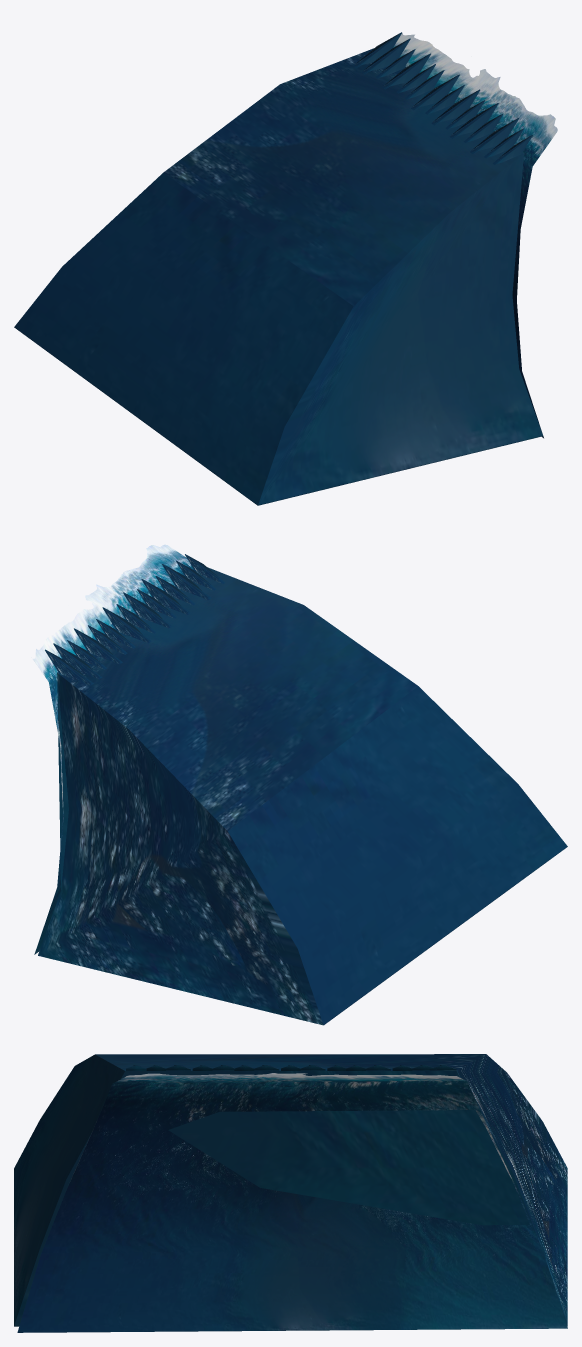
The model's file is Tsunami.fbx.
The picture shows the model from 3 angles, top to bottom: view 1: azimuth 30°, elevation 25°; view 2: azimuth 150°, elevation 25°; view 3: azimuth 270°, elevation 25°; orthographic projection. The views are drawn at different scales.
Visible parts, largest first — view 1: pCube17, pPlane1; view 2: pCube17, pPlane1; view 3: pPlane1, pCube17.
Part boxes in pixels (<box>): pCube17: <box>14,32,542,505</box>; pPlane1: <box>393,33,557,438</box>; pCube17: <box>38,554,567,1025</box>; pPlane1: <box>33,544,194,954</box>; pPlane1: <box>17,1073,567,1332</box>; pCube17: <box>14,1054,567,1326</box>.
Size of the model in its own units: 24.05 by 16.97 by 27.96.
